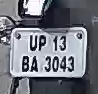0: (52, 56, 59, 74)
1: (51, 36, 59, 54)
3: (67, 56, 76, 74), (43, 56, 51, 74), (60, 35, 67, 53)
4: (58, 54, 67, 74)
A: (30, 55, 40, 74)
B: (20, 55, 30, 74)
P: (38, 33, 46, 53)
U: (29, 34, 38, 53)
